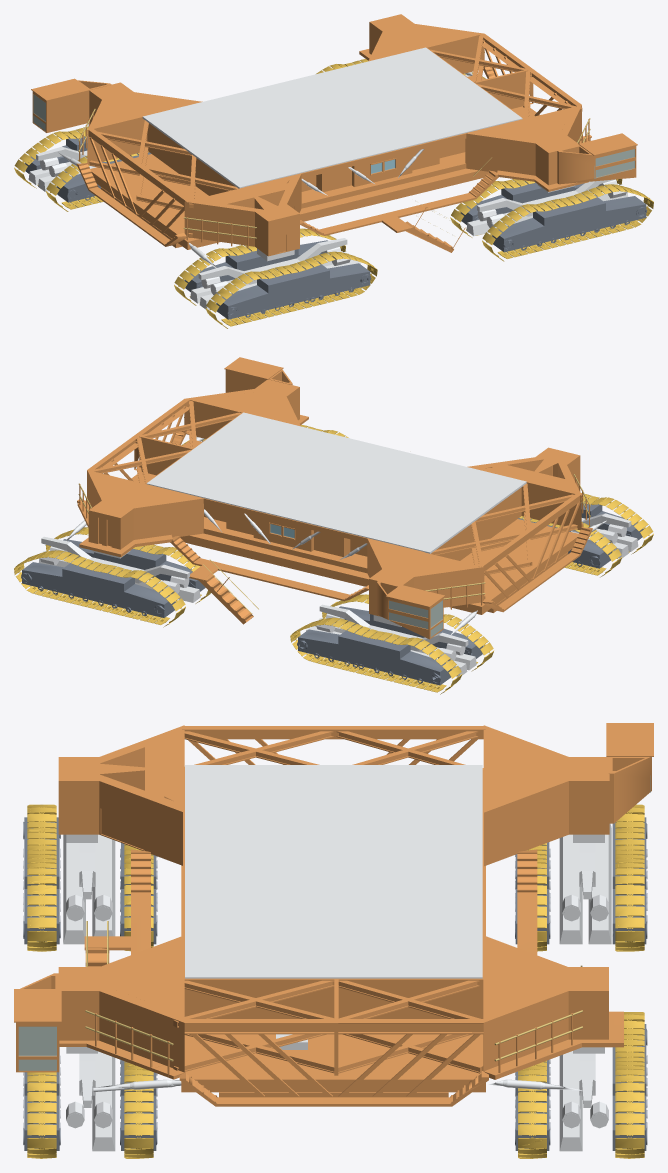
File: crawler.glb
3 renders of one model, top to bottom at view 1: azimuth 30°, elevation 25°; view 2: azimuth 150°, elevation 25°; view 3: azimuth 270°, elevation 25°, orthographic. The views are drawn at different scales.
Parts seen in each view (by area): view 1: polySurface1; view 2: polySurface1; view 3: polySurface1.
Boxes of the visible parts, box(x1,y1,x2,y2) form: polySurface1: box(14, 14, 653, 328); polySurface1: box(14, 357, 653, 694); polySurface1: box(14, 723, 653, 1158).
Bounding box in the file's own units: 8.77 × 1.7 × 7.2.
